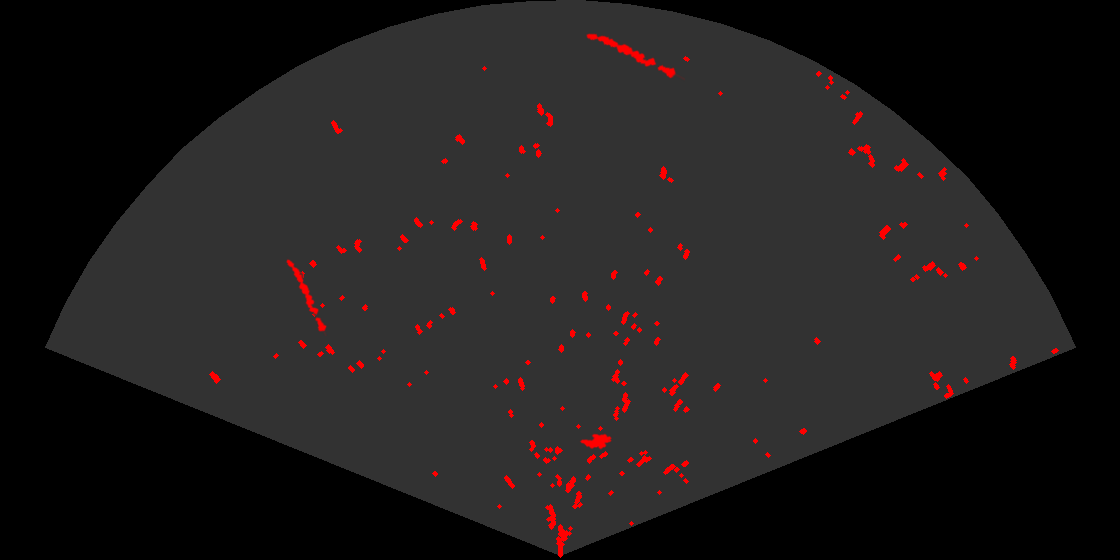AUV: (578, 432, 613, 450)
chain: (585, 32, 685, 82), (285, 257, 328, 336)
